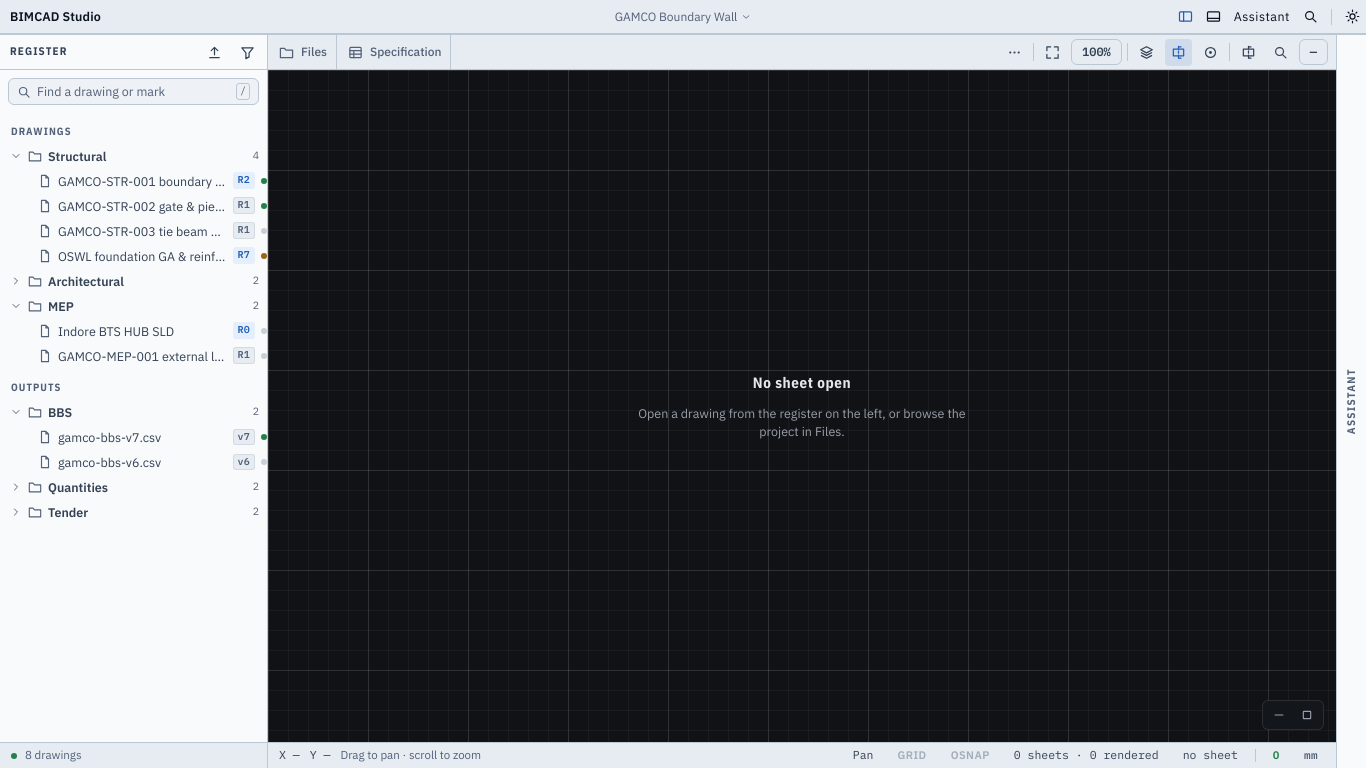
it: register tree › clicking the folder name walks into it in the Files view
Click the button with aria-label "Open Architectural in Files" at (137, 281), box [28,268,247,293]
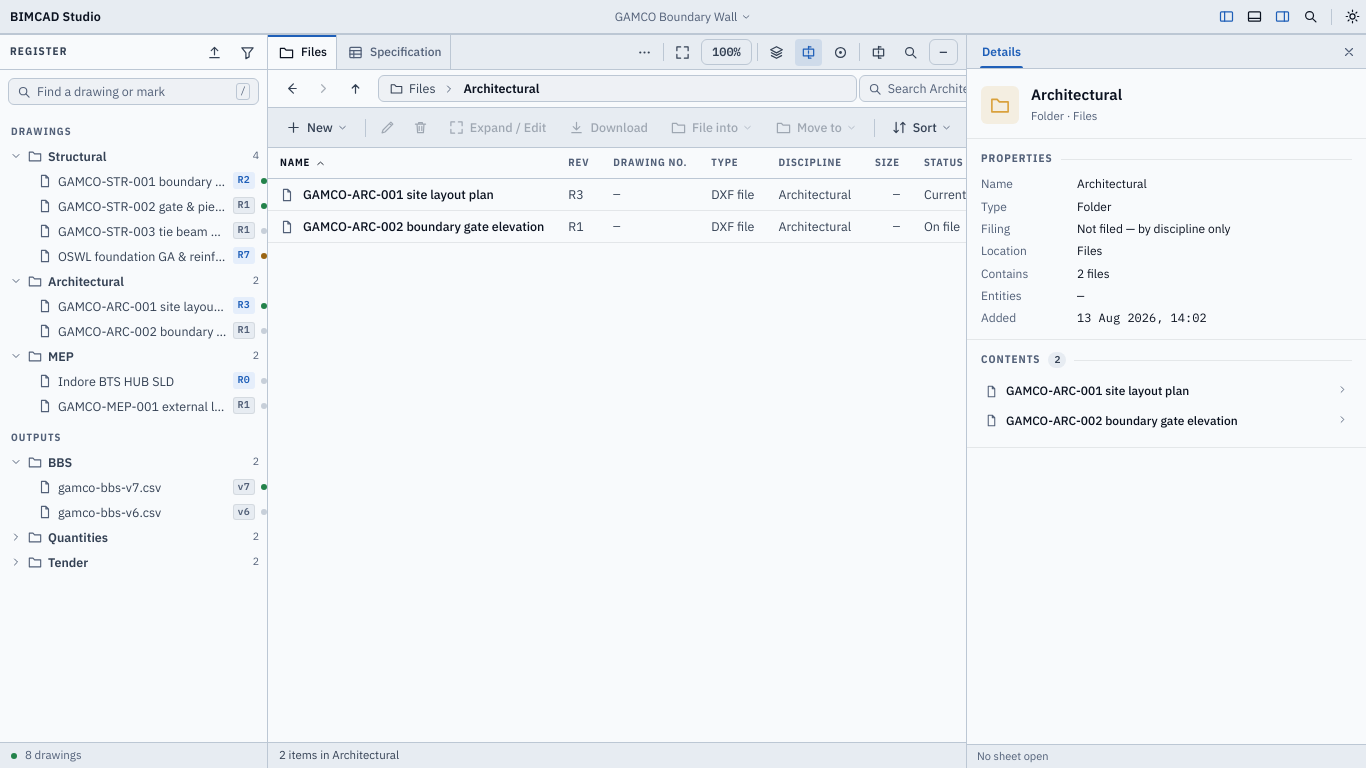
Now the element with test id "files-view" is shown, box [268,70,966,742]
Now the 1st button "Architectural" is shown, box [456,78,546,99]
Now the element with test id "status-bar" reads "2 items in Architectural", box [268,742,966,767]
